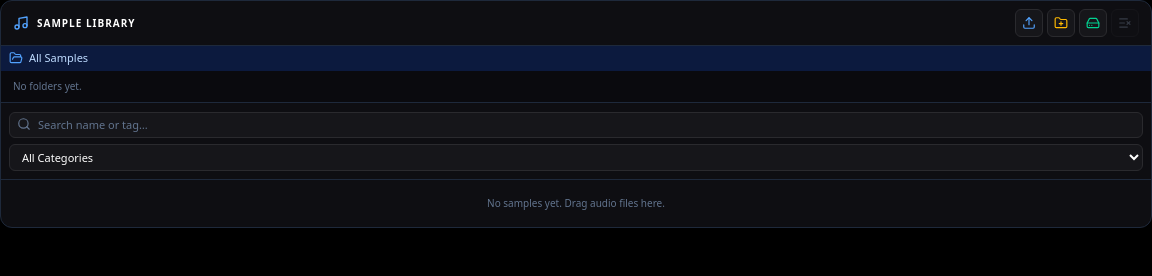
it: SampleBrowser folder linking › reports a scan failure
Click the button titled "Link a folder on disk".
click(1093, 23)  # box [1079,9,1107,37]
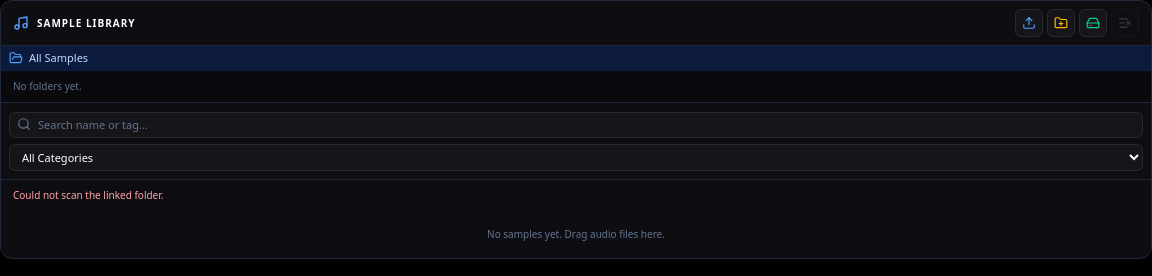
Now the text "Could not scan the linked folder." is shown, box [13,188,164,202]
